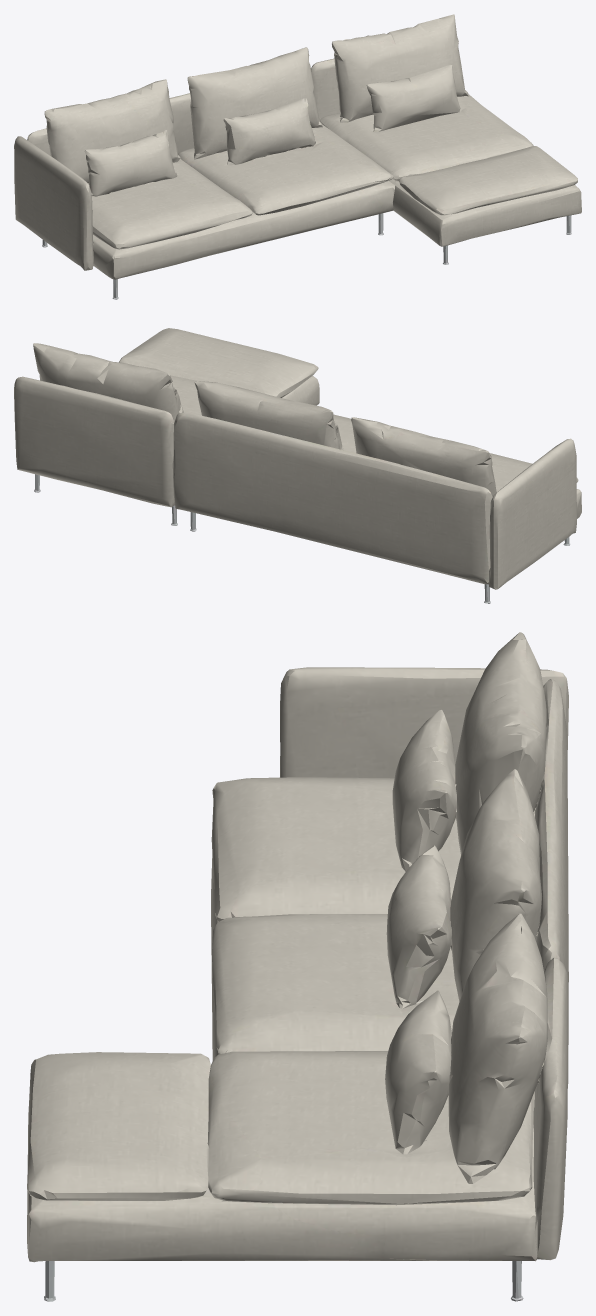
3 views of the same model, one above another, from view 1: azimuth 30°, elevation 25°; view 2: azimuth 150°, elevation 25°; view 3: azimuth 270°, elevation 25° (orthographic). The views are drawn at different scales.
Visible parts, largest first — view 1: ProcessedMeshNode; view 2: ProcessedMeshNode; view 3: ProcessedMeshNode.
Part boxes in pixels (x1,y1,x2,y2): ProcessedMeshNode: [14, 14, 581, 299]; ProcessedMeshNode: [14, 328, 581, 603]; ProcessedMeshNode: [27, 632, 568, 1301].
Size of the model in its own units: 2.89 by 0.8634 by 1.54.
2 materials, 2 textured.
